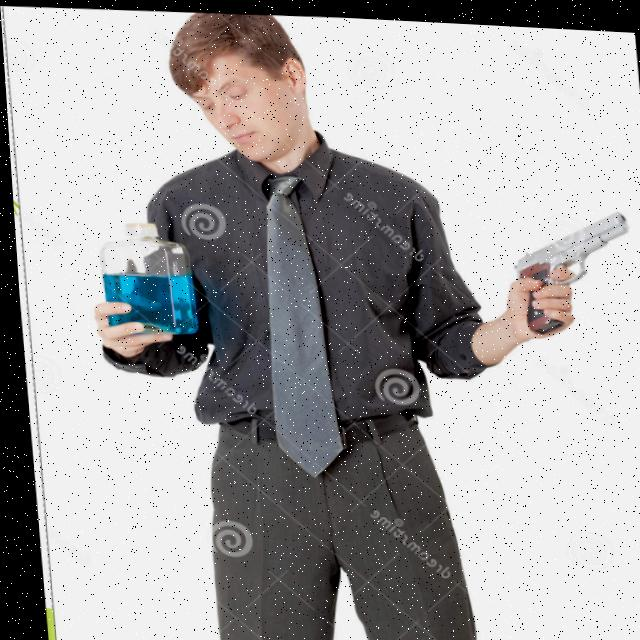pistol: (505, 197, 632, 283)
